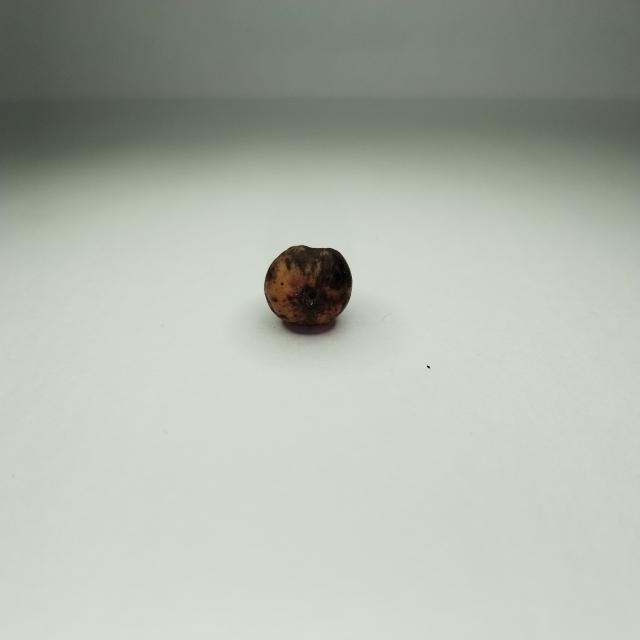Infectado: (264, 247, 353, 336)
